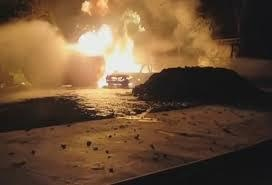fire: (66, 20, 141, 85)
